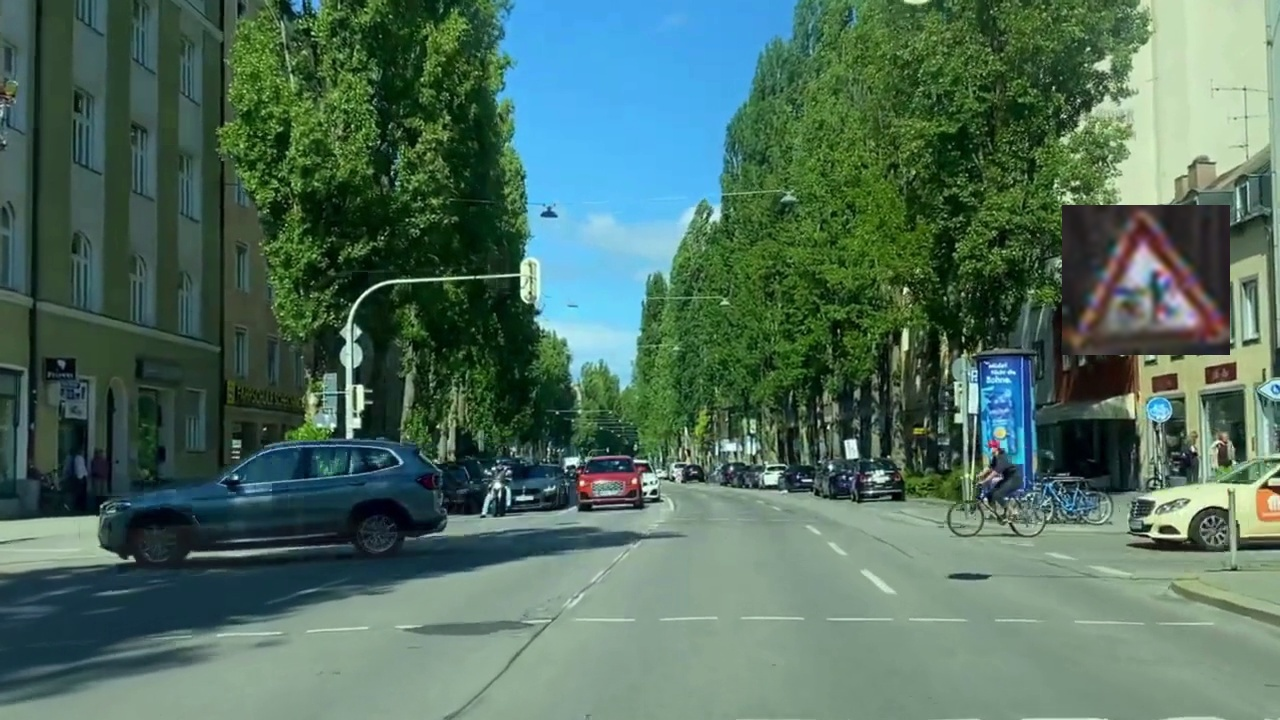Children: (1062, 205, 1230, 355)
